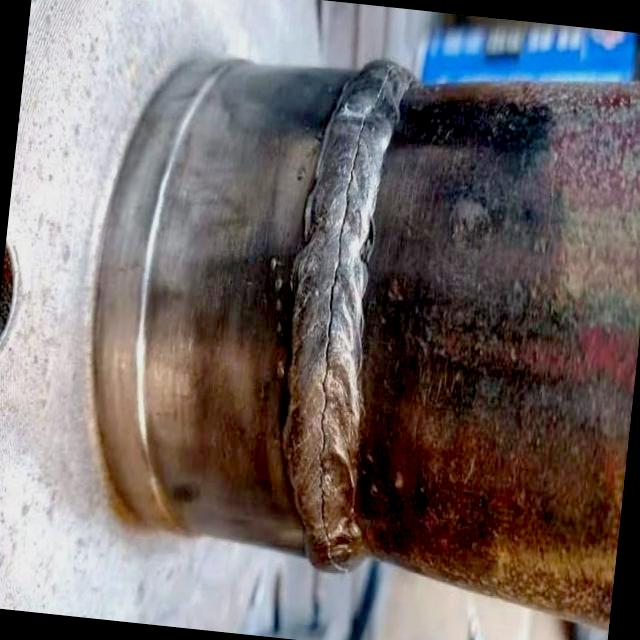defect: (315, 55, 393, 575)
